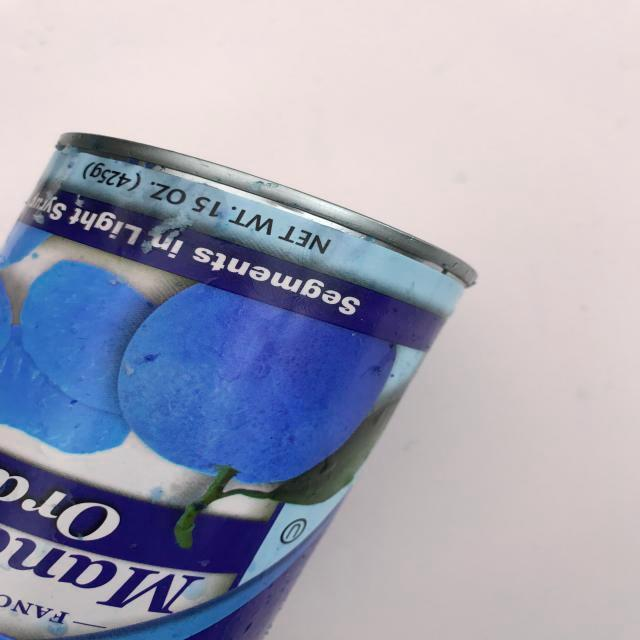metal: (0, 111, 532, 639)
